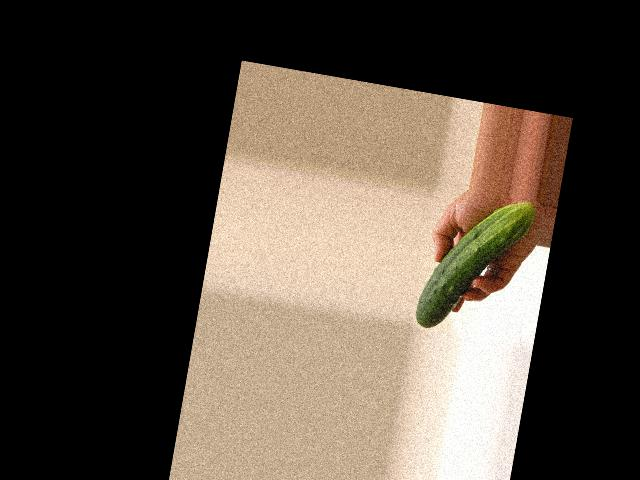cucumber: (414, 187, 537, 343)
